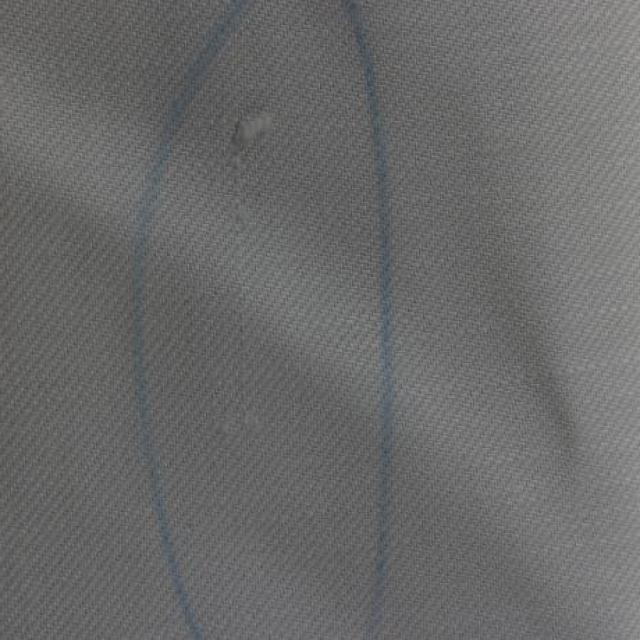Thread_other: (200, 103, 338, 502)
